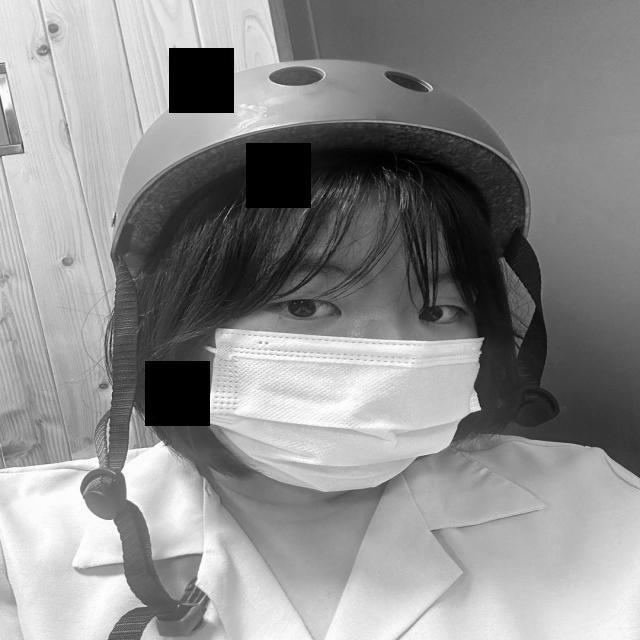helmet: (74, 37, 559, 297)
